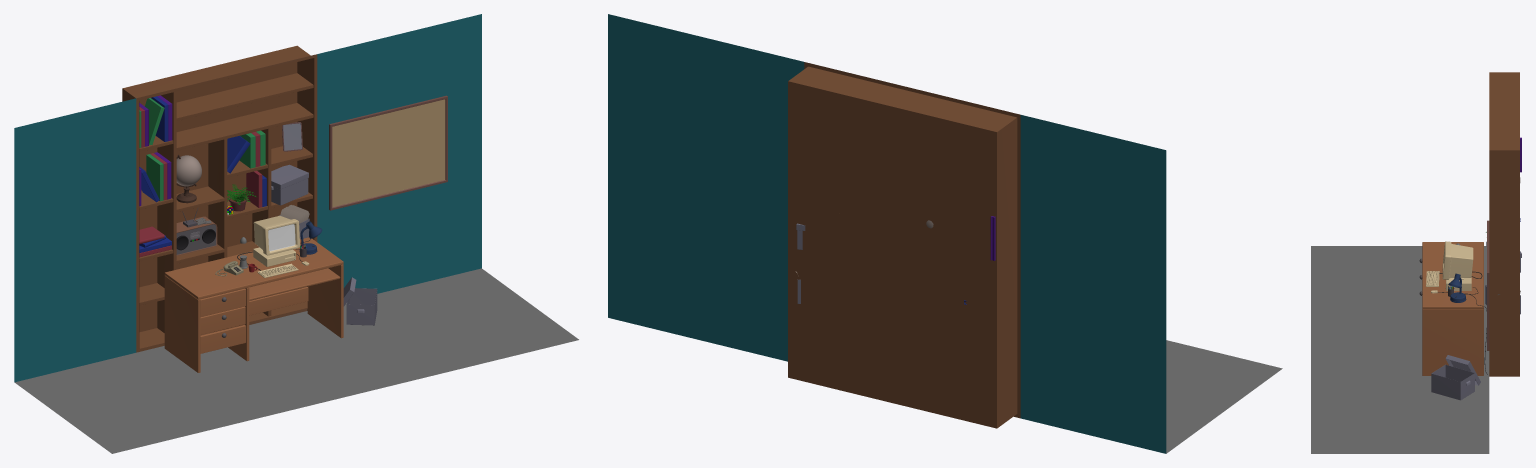
File: map (1).fbx
3 renders of one model, left to right at view 1: azimuth 30°, elevation 25°; view 2: azimuth 150°, elevation 25°; view 3: azimuth 270°, elevation 25°, orthographic. The views are drawn at different scales.
Parts seen in each view (by area): view 1: Library.002; view 2: Library.002; view 3: Library.002.
Boxes of the visible parts, left/top/right/bottom form: Library.002: left=14, top=14, right=578, bottom=453; Library.002: left=608, top=14, right=1282, bottom=453; Library.002: left=1311, top=72, right=1521, bottom=453.
Bounding box in the file's own units: 481 × 250 × 206.
